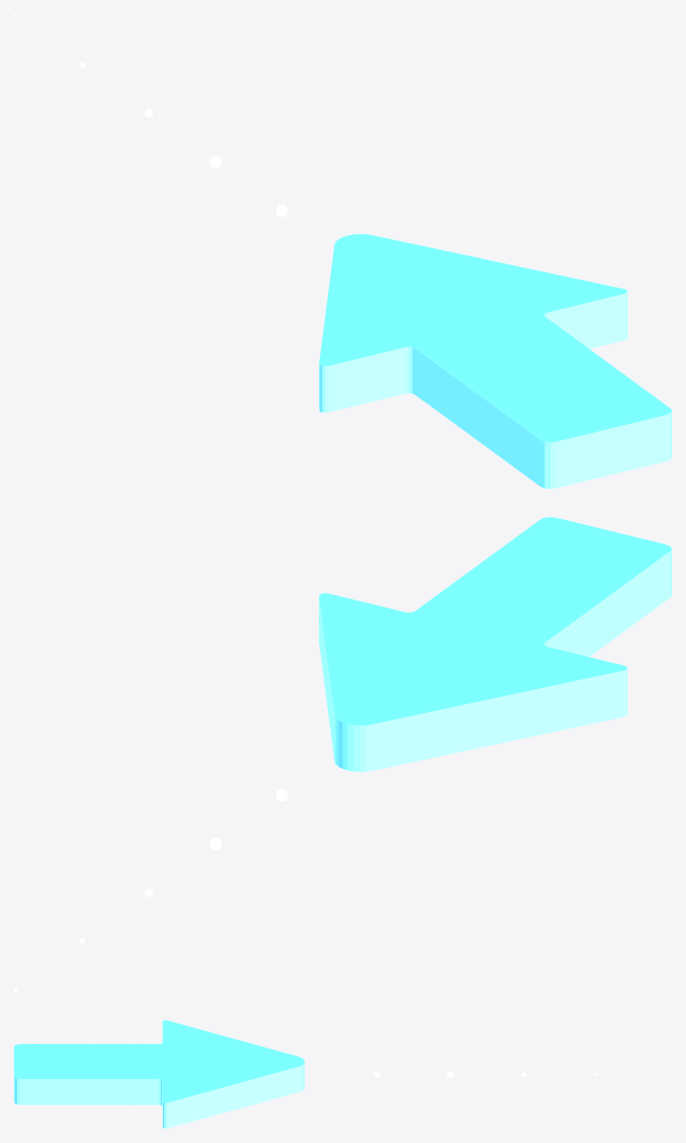
The model's file is arrow_s_4.glb.
The picture shows the model from 3 angles, top to bottom: view 1: azimuth 30°, elevation 25°; view 2: azimuth 150°, elevation 25°; view 3: azimuth 270°, elevation 25°; orthographic projection. The views are drawn at different scales.
Visible parts, largest first — view 1: Cube.002; view 2: Cube.002; view 3: Cube.002.
Boxes of the visible parts, <box> form: Cube.002: <box>319,234,671,488</box>; Cube.002: <box>319,517,671,771</box>; Cube.002: <box>14,1020,304,1128</box>.
Size of the model in its own units: 0.8003 by 0.116 by 2.69.
6 materials, 1 textured.
